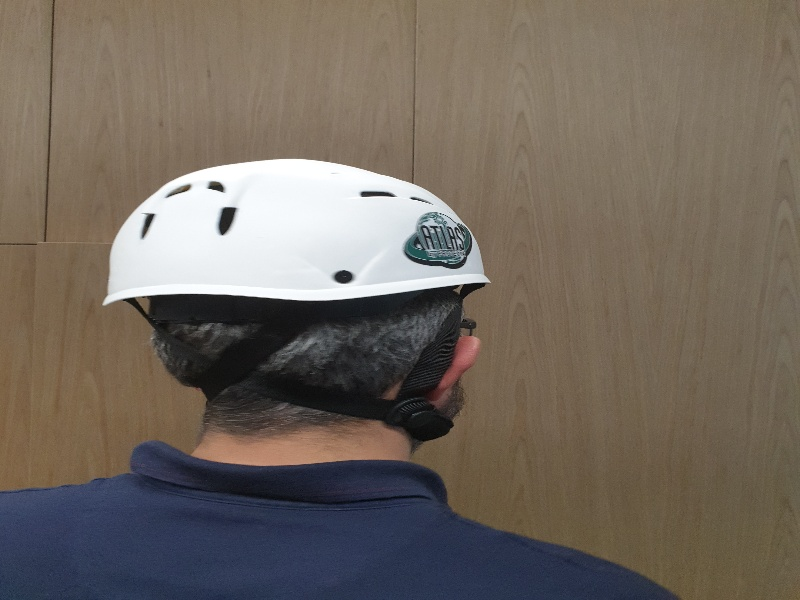Baret: (98, 154, 486, 305)
